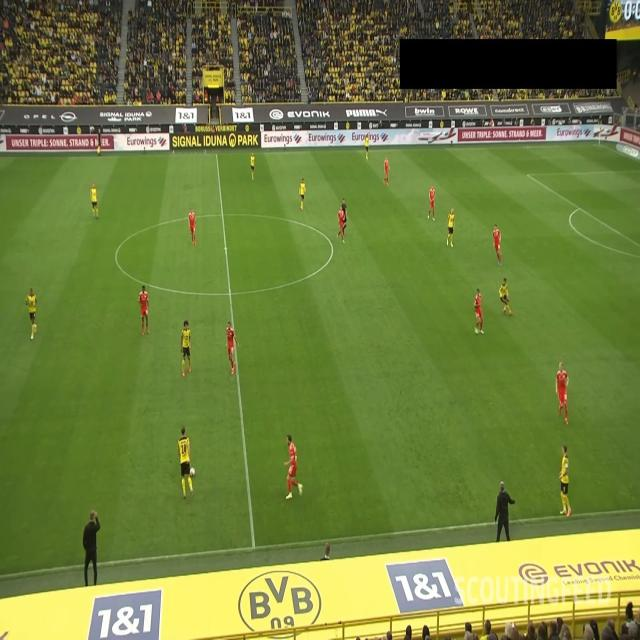ball: (189, 466, 196, 478)
